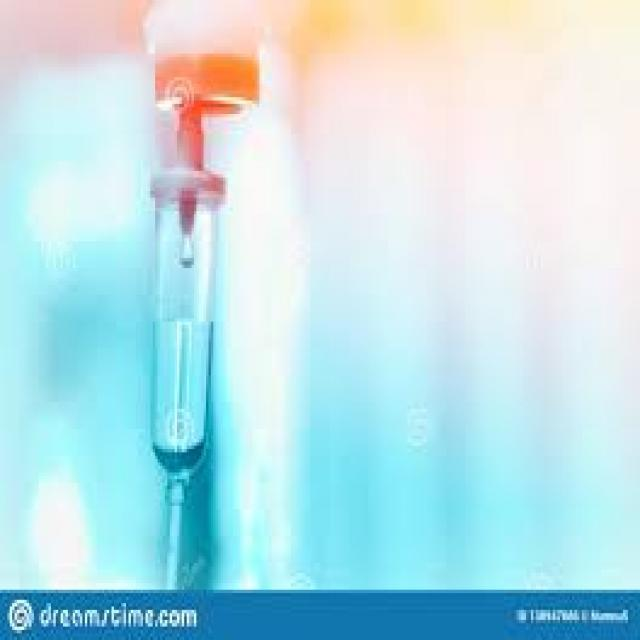iv_fluids: (130, 37, 267, 506)
